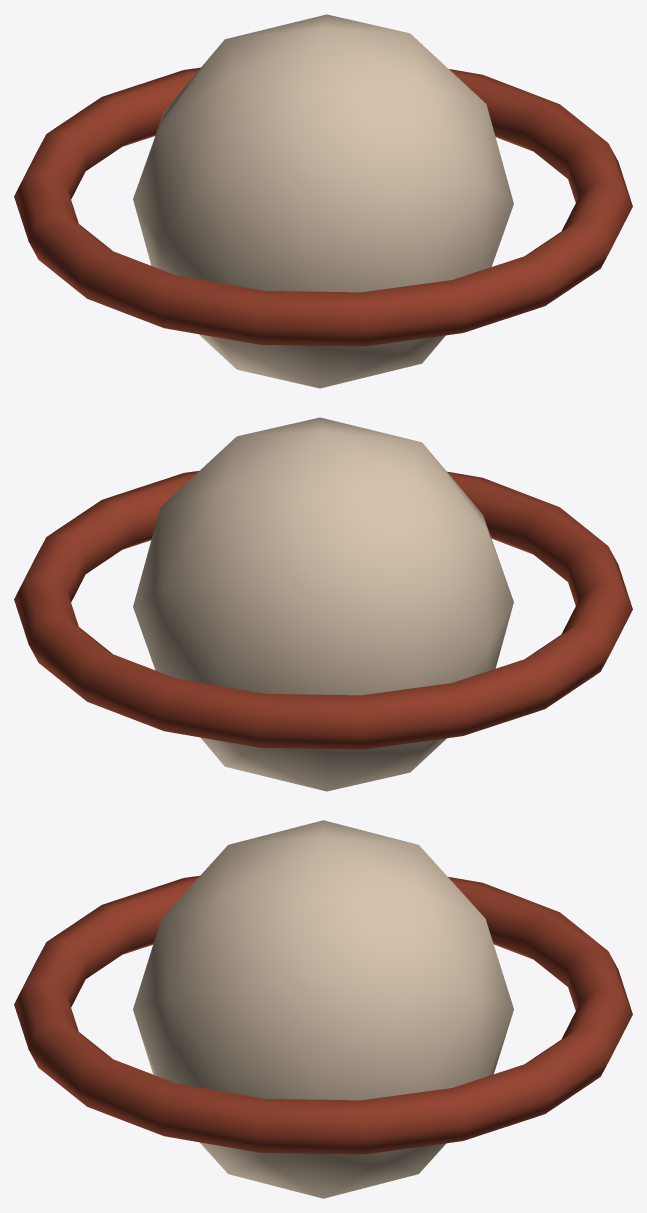
Rendered from skill.glb.
The picture shows the model from 3 angles, top to bottom: view 1: azimuth 30°, elevation 25°; view 2: azimuth 150°, elevation 25°; view 3: azimuth 270°, elevation 25°; orthographic projection.
Parts seen in each view (by area): view 1: skill_core, skill_ring; view 2: skill_core, skill_ring; view 3: skill_core, skill_ring.
Part boxes in pixels (x1,y1,x2,y2): skill_core: (133, 14, 513, 388); skill_ring: (14, 67, 632, 346); skill_core: (133, 417, 513, 791); skill_ring: (14, 471, 632, 749); skill_core: (133, 820, 513, 1198); skill_ring: (14, 875, 632, 1154).
Size of the model in its own units: 0.7728 by 0.48 by 0.7794.
